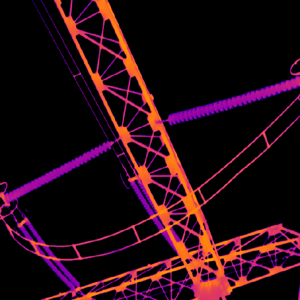insulator: (3, 136, 113, 204), (166, 74, 299, 126), (128, 176, 186, 257), (24, 217, 80, 288), (17, 224, 75, 290)
